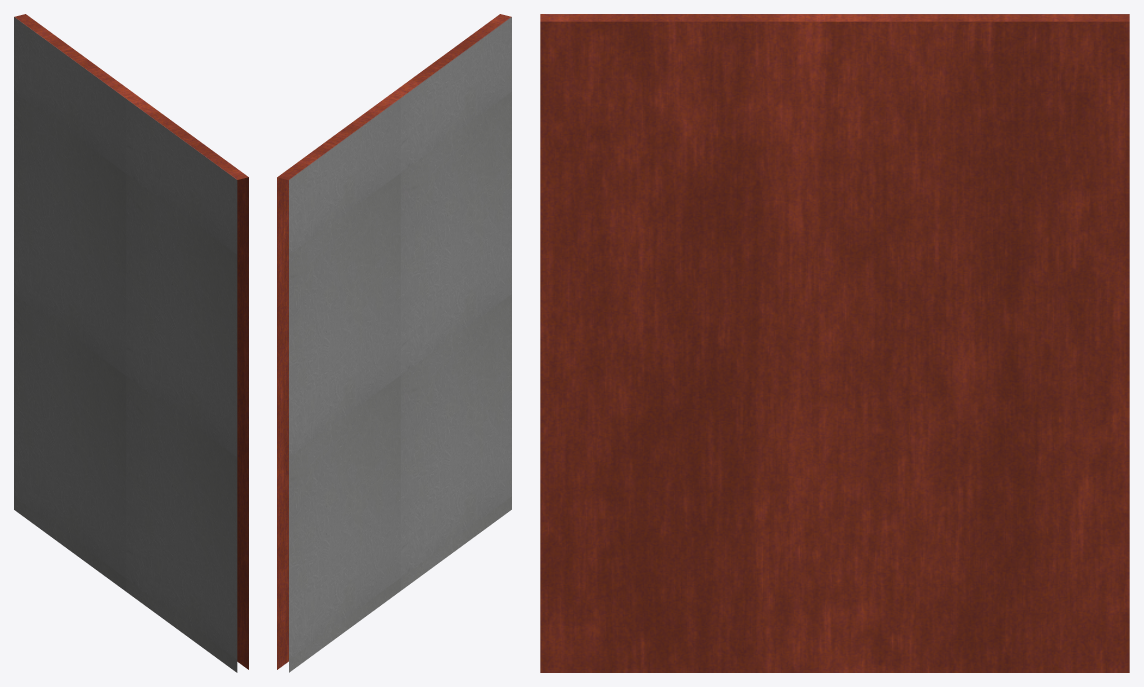
The model's file is SM_Bath_Entourage_Wall.fbx.
3 views of the same model, side by side, from view 1: azimuth 30°, elevation 25°; view 2: azimuth 150°, elevation 25°; view 3: azimuth 270°, elevation 25° (orthographic). The views are drawn at different scales.
Visible parts, largest first — view 1: SM_Bath_Entourage_Wall; view 2: SM_Bath_Entourage_Wall; view 3: SM_Bath_Entourage_Wall.
Part boxes in pixels (bbox=[...]): SM_Bath_Entourage_Wall: bbox=[14, 14, 248, 672]; SM_Bath_Entourage_Wall: bbox=[277, 14, 511, 672]; SM_Bath_Entourage_Wall: bbox=[540, 14, 1129, 672].
Bounding box in the file's own units: 7.09 × 234 × 285.
Materials: 1 (1 with a texture image).
